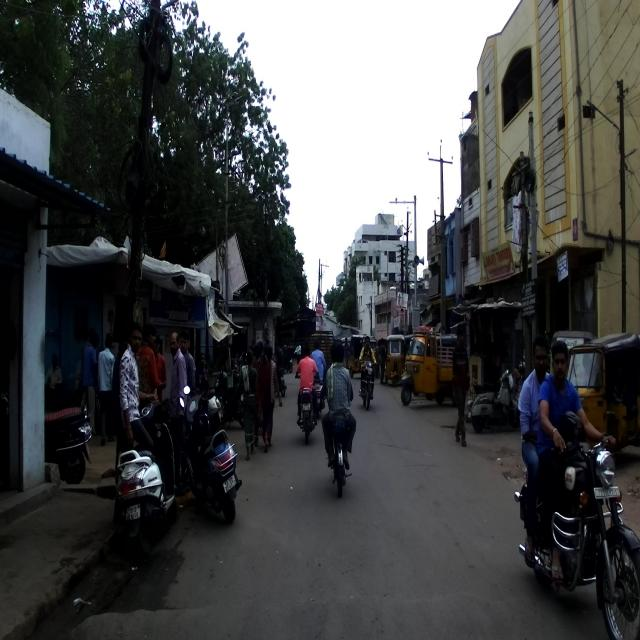autorickshaw: (565, 331, 639, 454), (397, 326, 466, 405), (549, 329, 600, 415)
motorcycle: (514, 427, 640, 639), (294, 374, 320, 444)
scooter: (114, 394, 178, 561), (178, 384, 242, 524), (44, 399, 92, 484), (467, 371, 520, 433)
